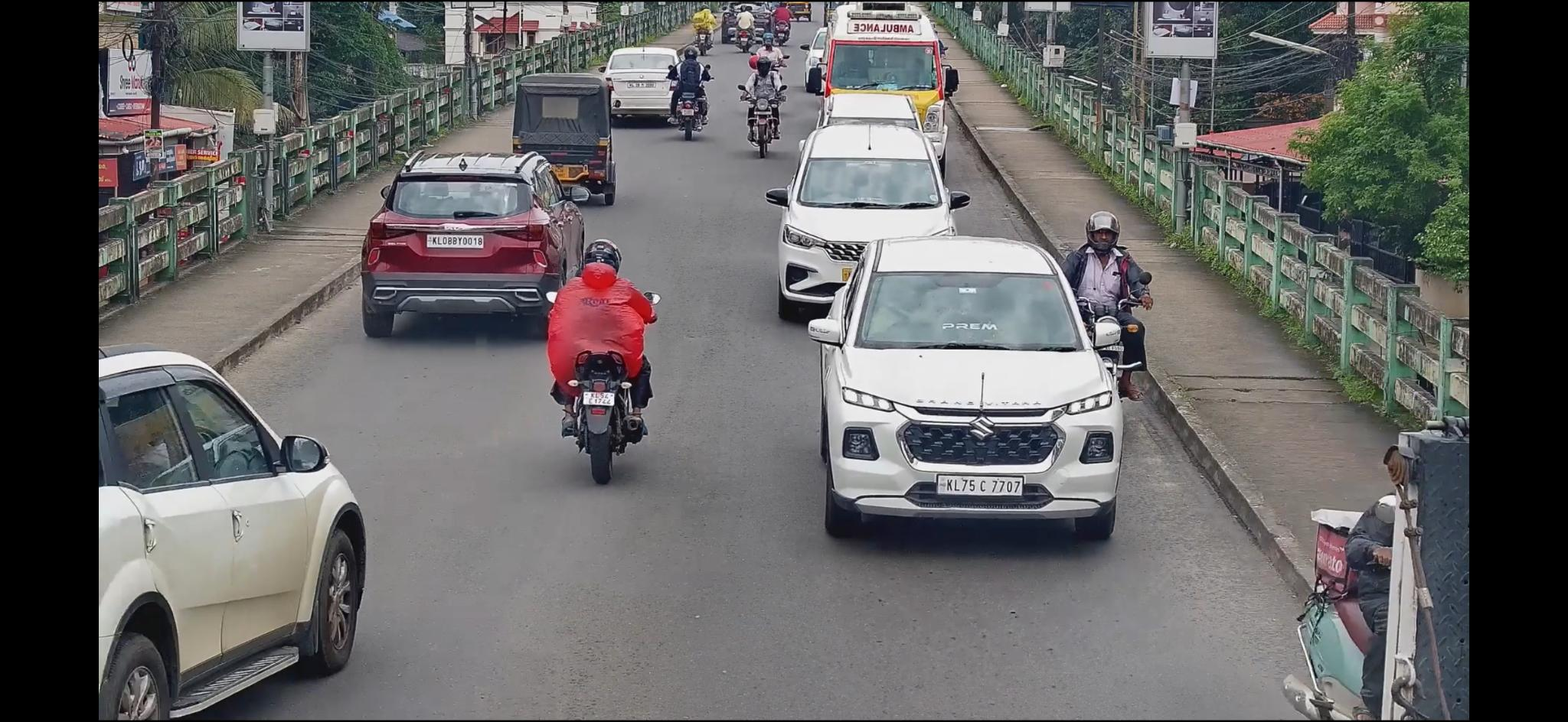ambulance: (819, 1, 948, 122)
